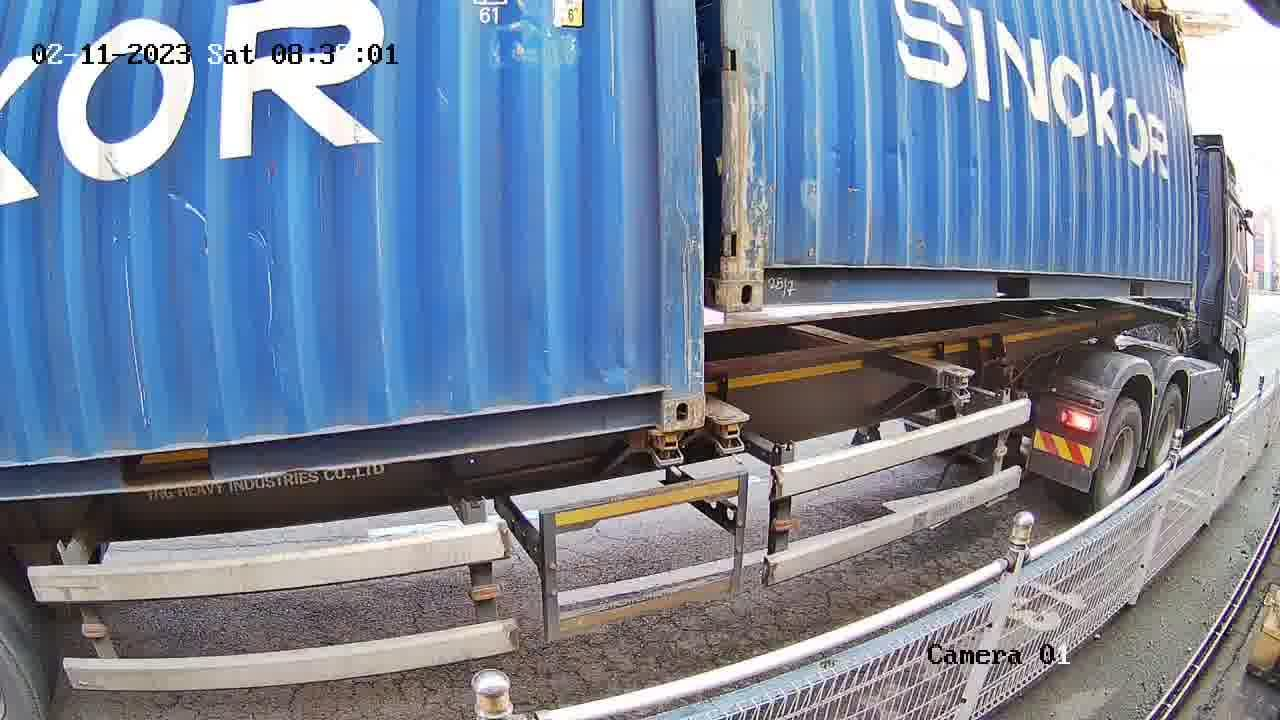Cone: (709, 410, 749, 459), (644, 431, 688, 472)
Hole_L: (723, 242, 802, 314)
Hole_R: (623, 352, 705, 429)
Tire: (1097, 405, 1142, 507), (1149, 389, 1183, 480)
